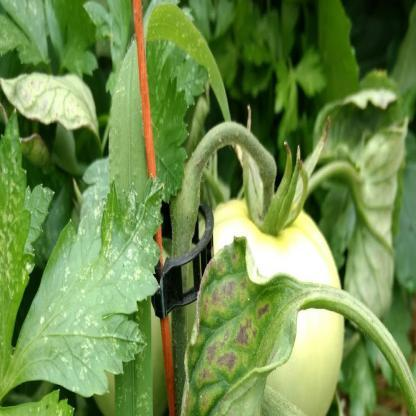Tomato leaf yellow virus: (10, 178, 162, 398)
